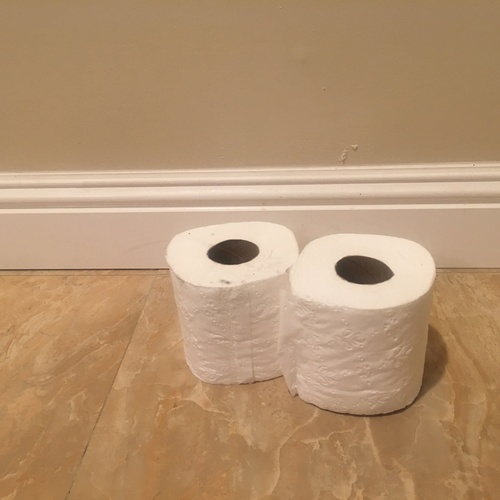roll: (289, 232, 436, 417), (165, 222, 300, 386)
